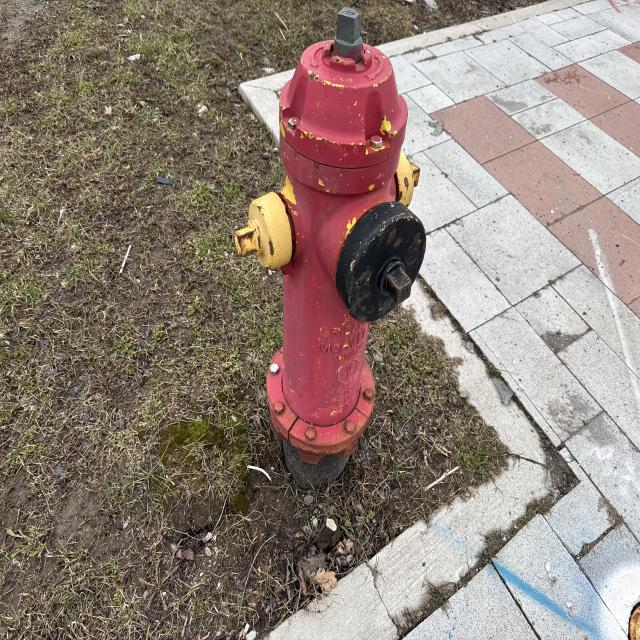Fire hydrant: (233, 7, 428, 468)
